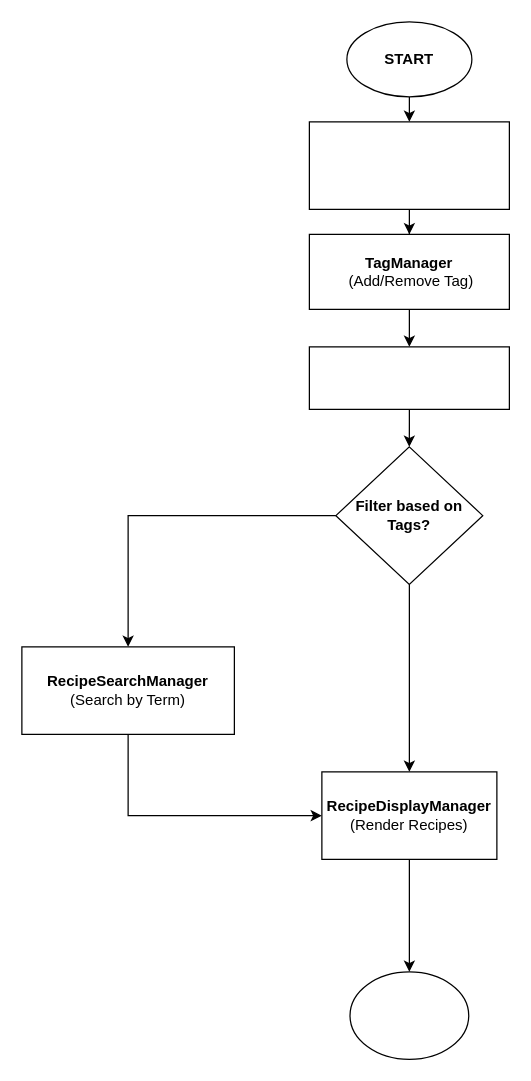
Image size: 531x1081. Some labels were removed from this diagram. The shapes that lost their labels are listed below. From the top down, each one's centre as x and y in pixels, then its label:
point (408, 165): User Input (Search or Tag Selection)
point (408, 377): FilterManager (Update Filters)
point (409, 1015): END
